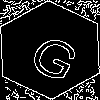G: (25, 25, 88, 84)
